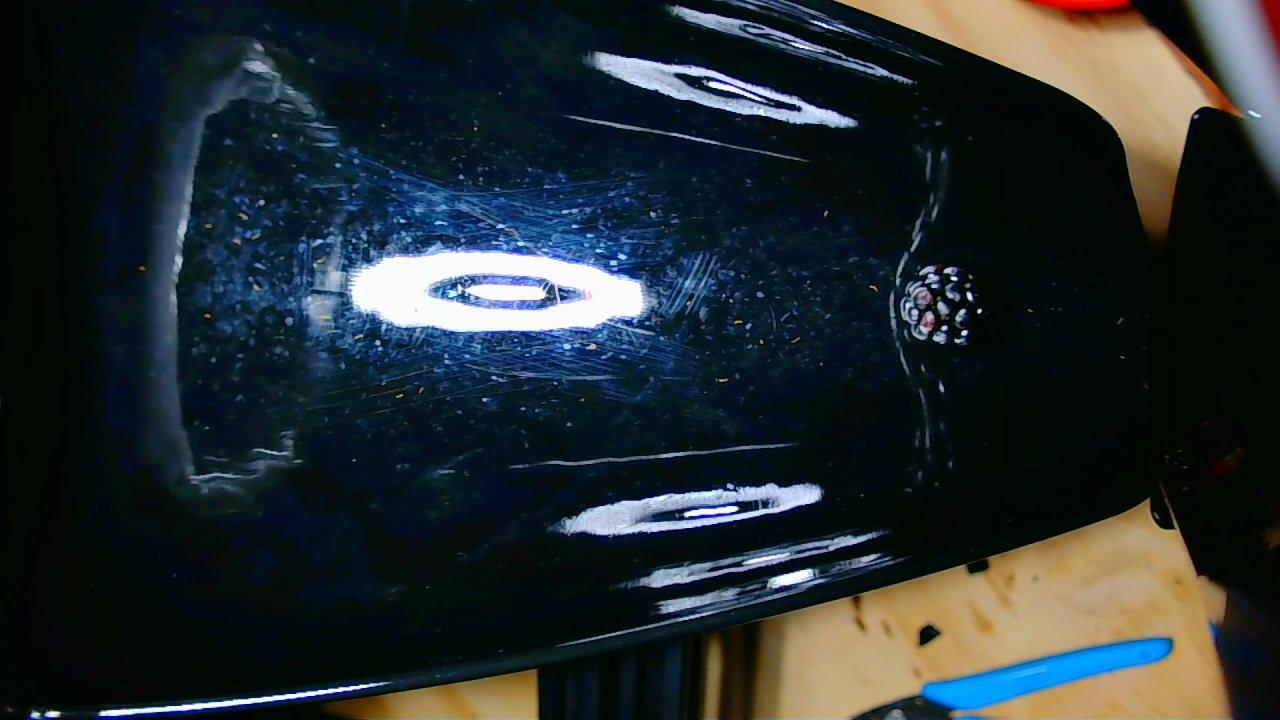berry: (897, 266, 985, 344)
